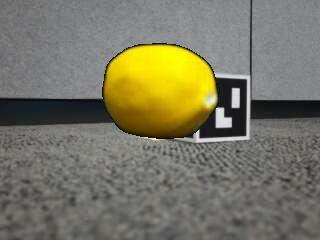lemon: (104, 45, 218, 138)
